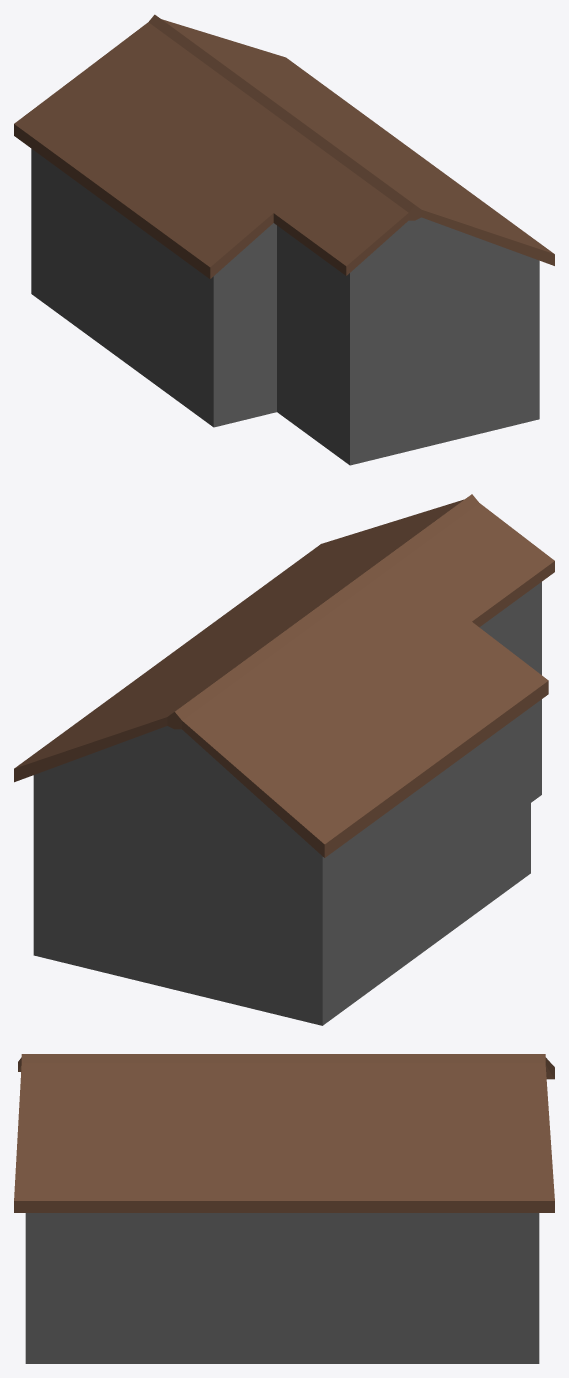
The model's file is Room02.fbx.
The picture shows the model from 3 angles, top to bottom: view 1: azimuth 30°, elevation 25°; view 2: azimuth 150°, elevation 25°; view 3: azimuth 270°, elevation 25°; orthographic projection. The views are drawn at different scales.
Parts seen in each view (by area): view 1: Room02; view 2: Room02; view 3: Room02.
Boxes of the visible parts, x1,y1,x2,y2 form: Room02: (14,14,554,465); Room02: (14,494,554,1025); Room02: (14,1054,554,1363).
Size of the model in its own units: 430 by 373 by 737.
